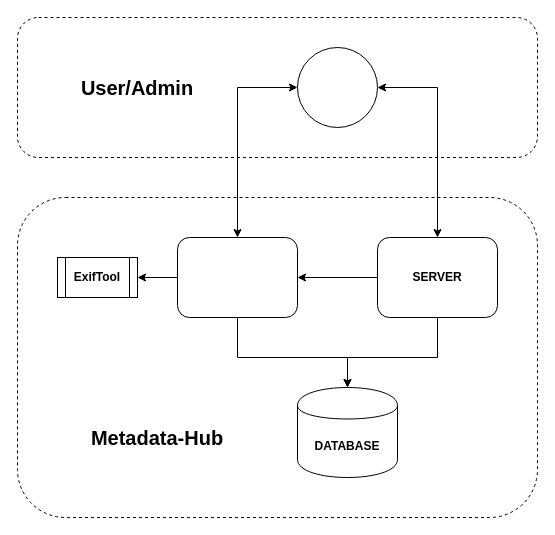
Some shapes in this 555 by 535 pixel diagram are drawn without their labels. The centre of each missing label's shape, as x and y in pixels:
"BROWSER" belongs at (337,87).
"CRAWLER" belongs at (237,277).
